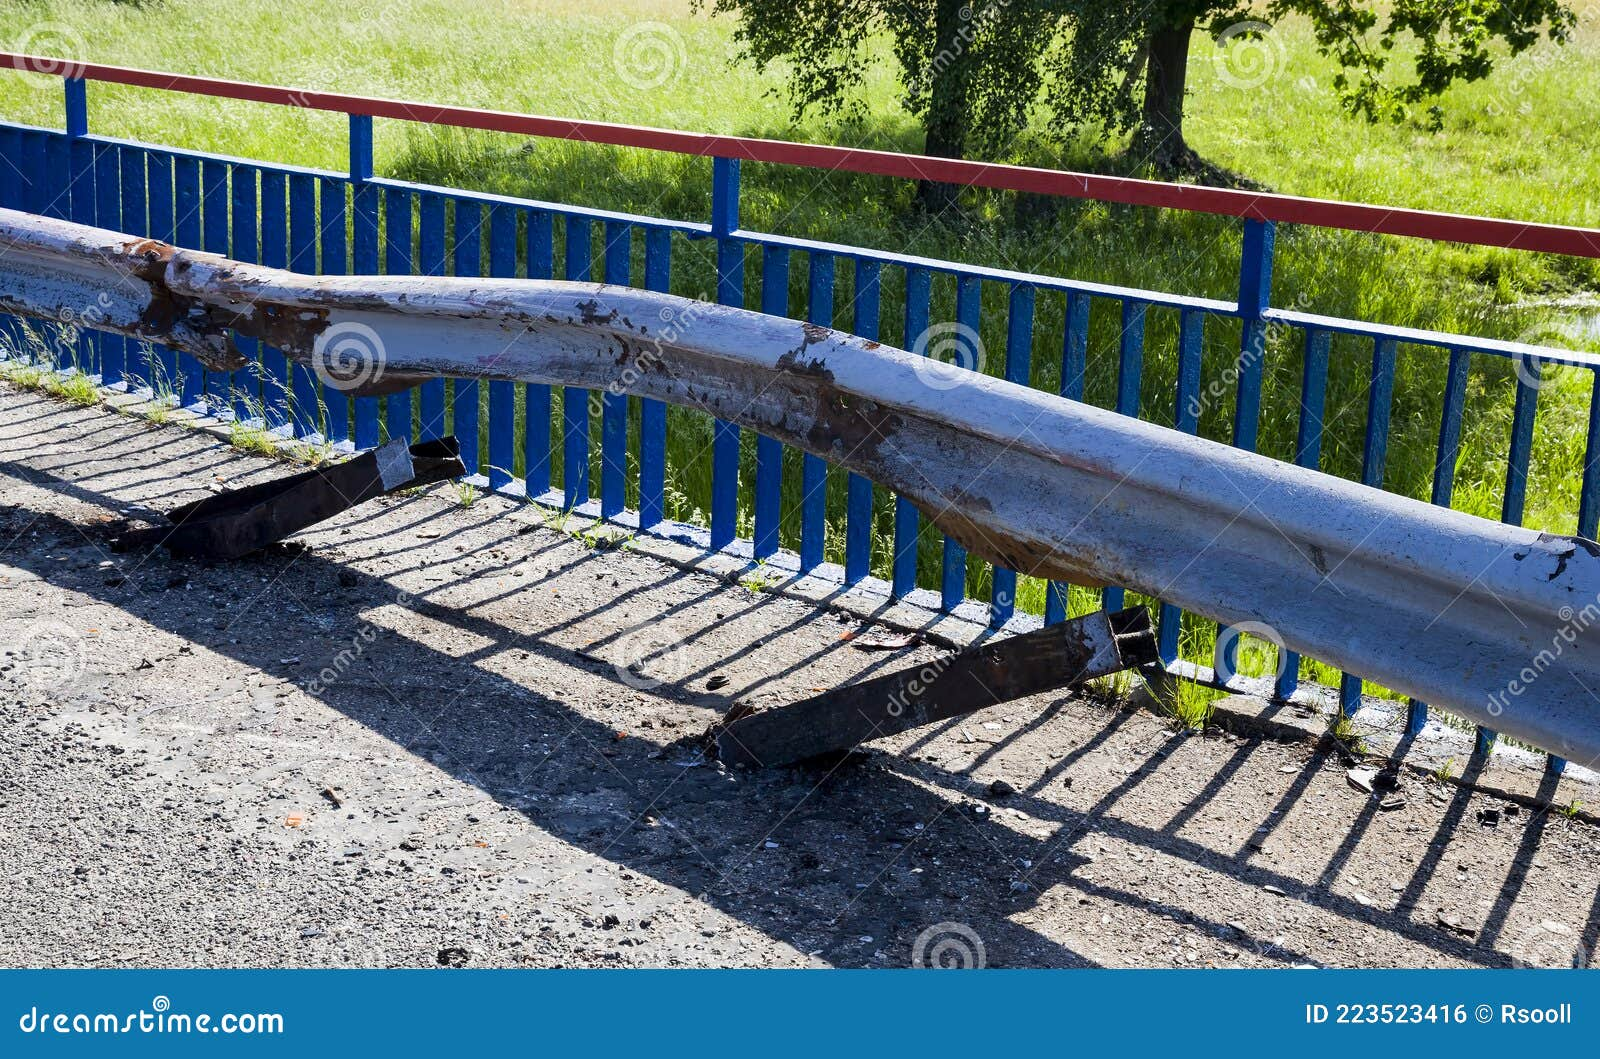damaged: (95, 200, 376, 391), (695, 292, 923, 500)
